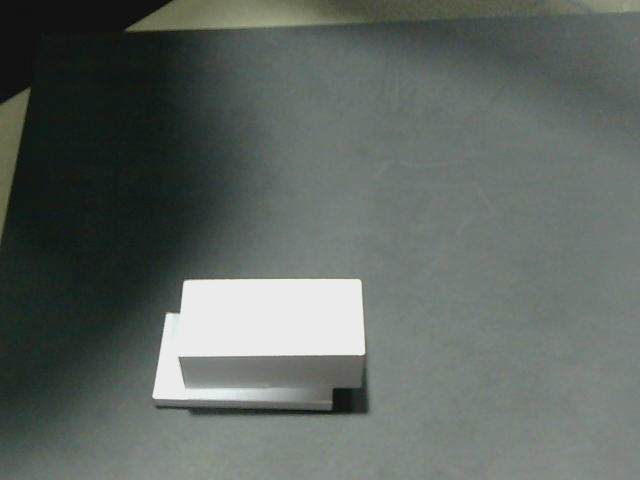enclosure_defective: (153, 279, 365, 401)
